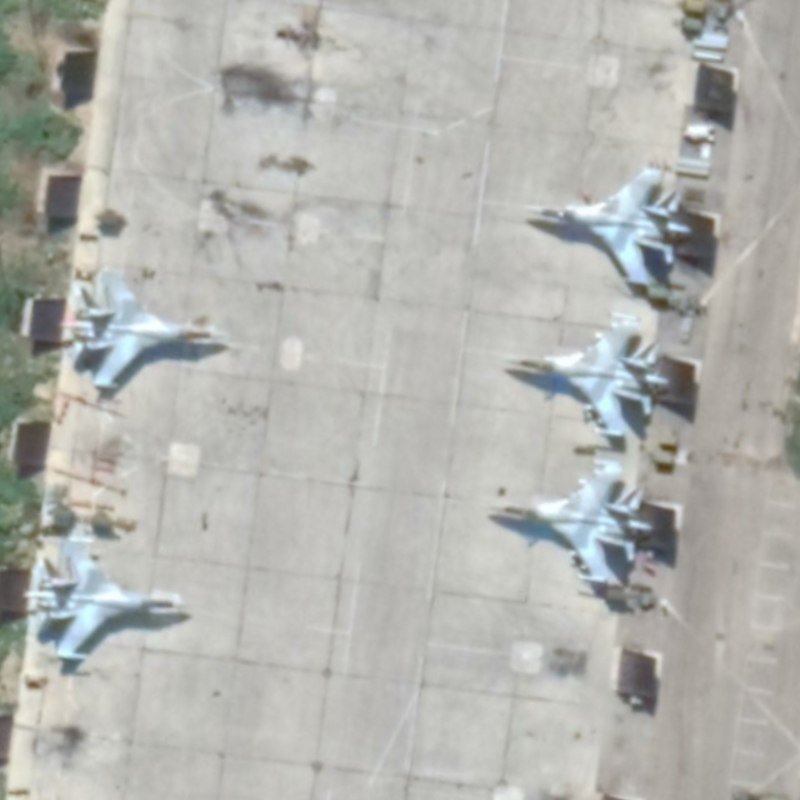A1: (486, 455, 657, 589), (501, 308, 671, 441), (521, 163, 693, 290), (20, 535, 189, 664), (59, 264, 228, 392)
